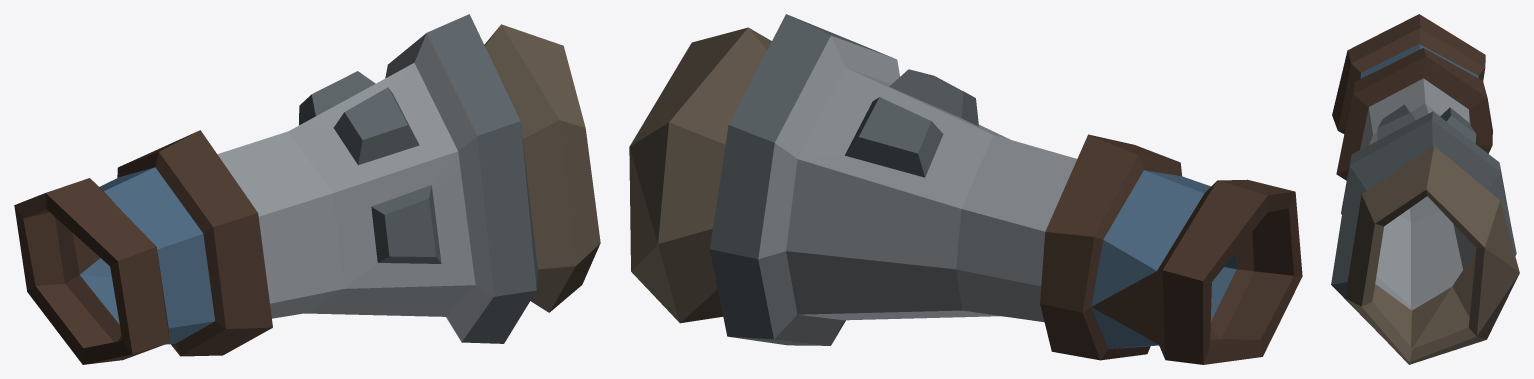
Rendered from Chr_ArmLowerRight_Female_15_Drop.fbx.
3 views of the same model, side by side, from view 1: azimuth 30°, elevation 25°; view 2: azimuth 150°, elevation 25°; view 3: azimuth 270°, elevation 25° (orthographic). The views are drawn at different scales.
Parts seen in each view (by area): view 1: Chr_ArmLowerRight_Female_15_Static; view 2: Chr_ArmLowerRight_Female_15_Static; view 3: Chr_ArmLowerRight_Female_15_Static.
Part boxes in pixels (box(x1,y1,x2,y2)): Chr_ArmLowerRight_Female_15_Static: box(14, 14, 600, 364); Chr_ArmLowerRight_Female_15_Static: box(629, 14, 1302, 364); Chr_ArmLowerRight_Female_15_Static: box(1331, 14, 1519, 364).
Size of the model in its own units: 30.02 by 16.91 by 12.3.
